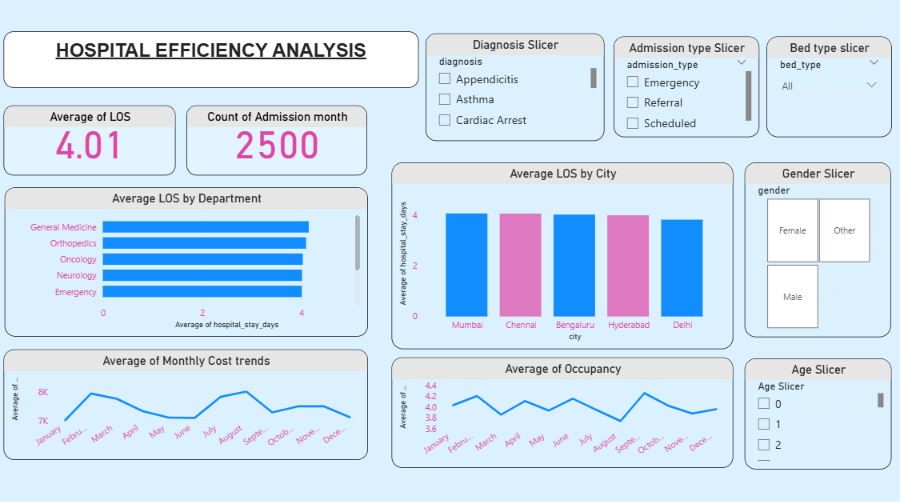

The dashboard page shown, as its layout file describes it:
{"tool":"powerbi","page":{"name":"Hospital efficiency analysis","canvas":[1280,720],"ordinal":0},"visuals":[{"type":"card","title":"     Average of LOS","fields":{"Values":["Avg(healthcare_capstone_2500.hospital_stay_days)"]},"box":[13.7,156.4,241.5,98.8],"z":0},{"type":"clusteredBarChart","title":"Average LOS by Department","fields":{"Category":["healthcare_capstone_2500.department"],"Y":["Avg(healthcare_capstone_2500.hospital_stay_days)"]},"box":[15.1,271.7,510.5,209.9],"z":1000},{"type":"clusteredColumnChart","title":"Average LOS by City","fields":{"Category":["healthcare_capstone_2500.city"],"Y":["Avg(healthcare_capstone_2500.hospital_stay_days)"]},"box":[559.9,236,480.3,262.1],"z":2000},{"type":"lineChart","title":"Average of Occupancy","fields":{"Category":["healthcare_capstone_2500.admission_month.Variation.Date Hierarchy.Month"],"Y":["Avg(healthcare_capstone_2500.hospital_stay_days)"]},"box":[559.9,510.5,480.3,155.1],"z":3000},{"type":"lineChart","title":"Average of Monthly Cost trends","fields":{"Category":["healthcare_capstone_2500.admission_month.Variation.Date Hierarchy.Month"],"Y":["Avg(healthcare_capstone_2500.total_bill_amount_USD)"]},"box":[13.7,498.1,511.8,155.1],"z":4000},{"type":"slicer","title":"Bed type slicer","fields":{"Values":["healthcare_capstone_2500.bed_type"]},"box":[1085.4,59,175.6,141.3],"z":5000},{"type":"slicer","title":"Admission type Slicer","fields":{"Values":["healthcare_capstone_2500.admission_type"]},"box":[871.4,59,204.5,141.3],"z":6000},{"type":"slicer","title":"Diagnosis Slicer","fields":{"Values":["healthcare_capstone_2500.diagnosis"]},"box":[606.5,54.9,251.1,150.9],"z":7000},{"type":"card","title":"Count of Admission month","fields":{"Values":["CountNonNull(healthcare_capstone_2500.admission_month)"]},"box":[271.7,156.4,253.9,98.8],"z":8000},{"type":"textbox","box":[13.7,52.1,583.2,79.6],"z":9000},{"type":"slicer","title":"Gender Slicer","fields":{"Values":["healthcare_capstone_2500.gender"]},"box":[1055.2,236,205.8,245.6],"z":10000},{"type":"slicer","title":"Age Slicer","fields":{"Values":["healthcare_capstone_2500.age"]},"box":[1055.1,511.3,206.1,156],"z":11000}]}

Visuals, with their boxes in screenshot pixels (x1, y1, x2, y2), scaled from the page's 1280x720 canvas onto the 901x502 screenshot:
"     Average of LOS" card: bbox(10, 109, 180, 178)
"Average LOS by Department" clusteredBarChart: bbox(11, 189, 370, 336)
"Average LOS by City" clusteredColumnChart: bbox(394, 165, 732, 347)
"Average of Occupancy" lineChart: bbox(394, 356, 732, 464)
"Average of Monthly Cost trends" lineChart: bbox(10, 347, 370, 455)
"Bed type slicer" slicer: bbox(764, 41, 888, 140)
"Admission type Slicer" slicer: bbox(613, 41, 757, 140)
"Diagnosis Slicer" slicer: bbox(427, 38, 604, 143)
"Count of Admission month" card: bbox(191, 109, 370, 178)
textbox: bbox(10, 36, 420, 92)
"Gender Slicer" slicer: bbox(743, 165, 888, 336)
"Age Slicer" slicer: bbox(743, 356, 888, 465)
